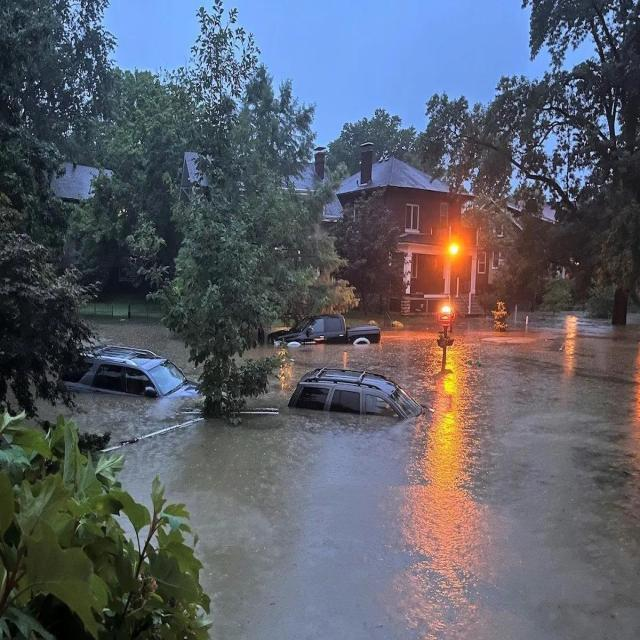water: (74, 315, 639, 639), (90, 319, 193, 375)
